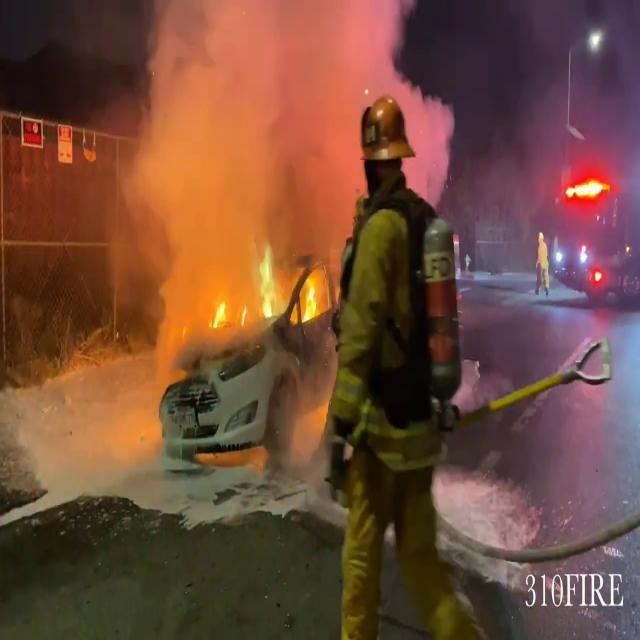Fire: (210, 235, 324, 335)
Smoke: (100, 0, 404, 252)
